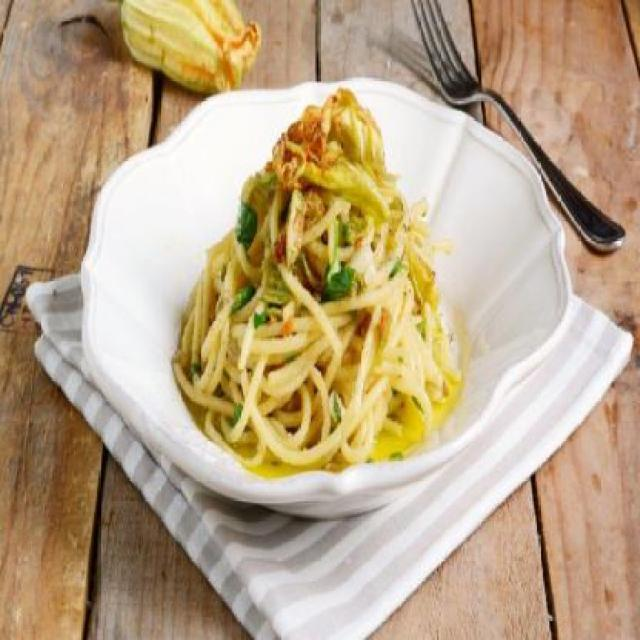Oil pasta: (195, 48, 514, 484)
